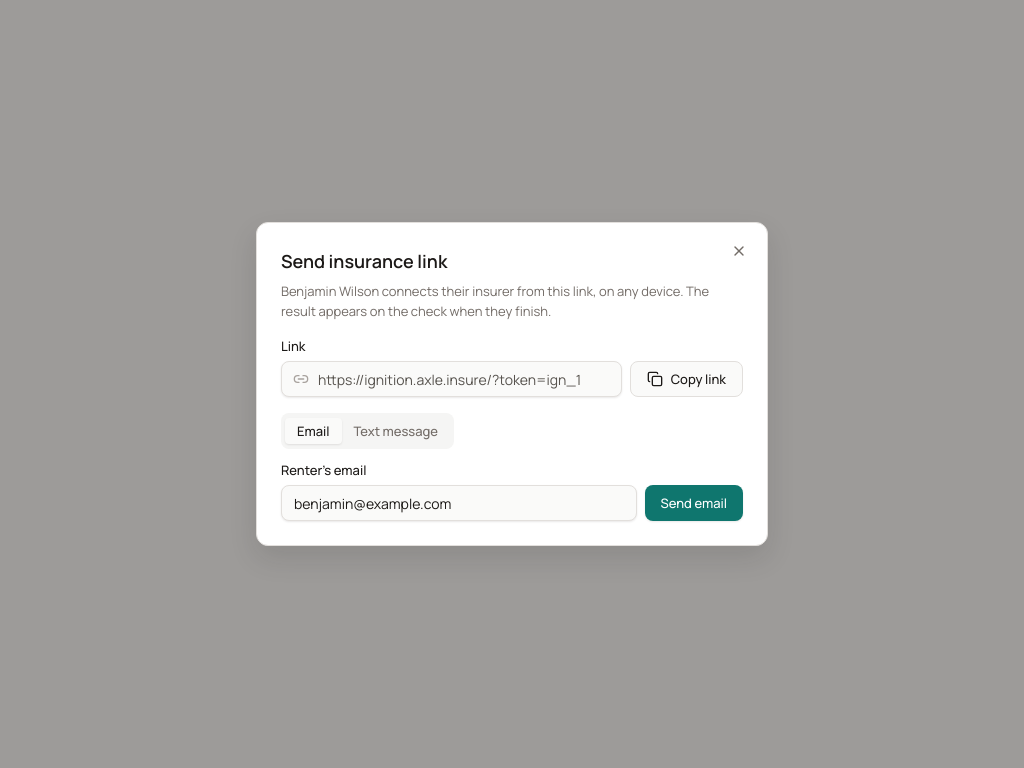
Test case: sending the renter their insurance link › copies the session link
Click the button "Copy link" at (686, 379), box [630,361,743,397]
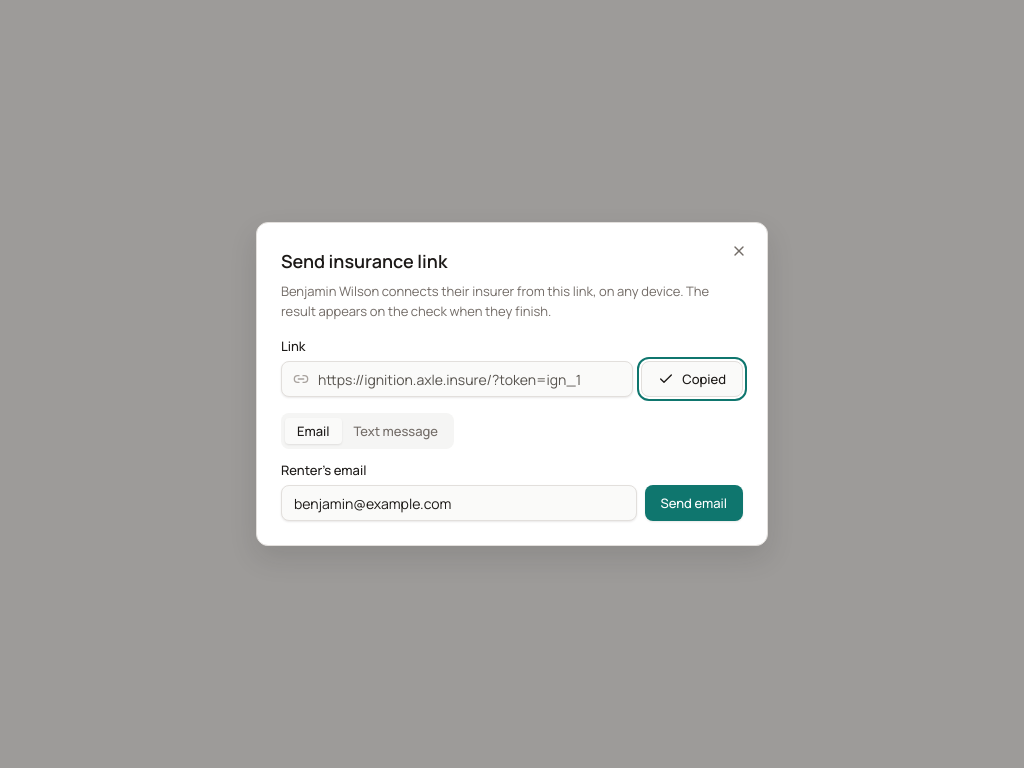
Result: the button "Copied" is shown at [641,361,743,397]
